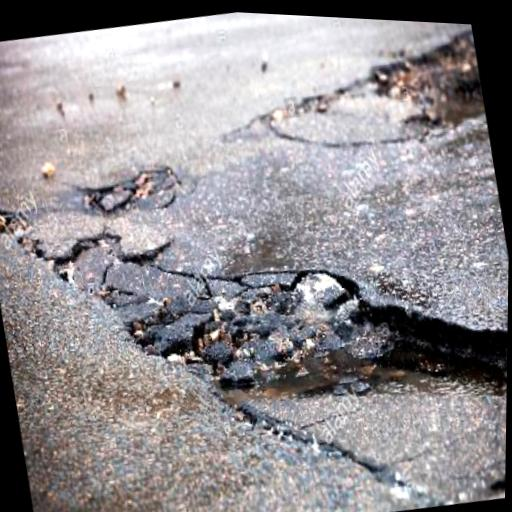pothole: (0, 112, 510, 512), (355, 20, 488, 148), (73, 154, 186, 227)
